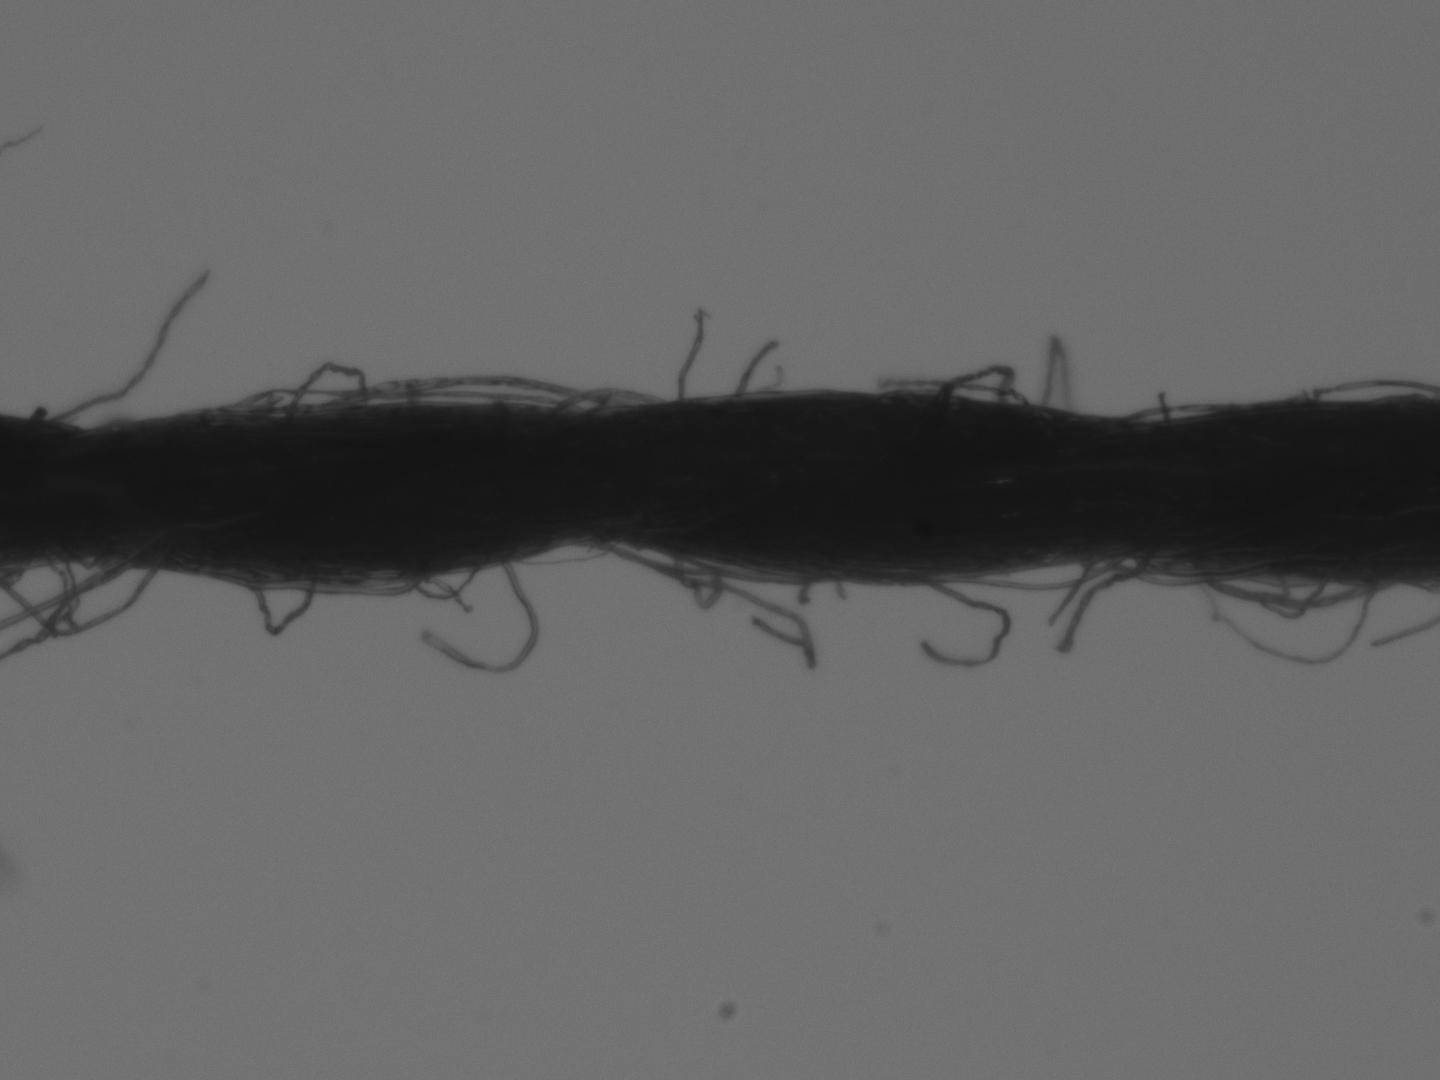loop_fiber: (2, 557, 169, 640), (940, 555, 1125, 592), (240, 577, 323, 644), (283, 361, 374, 408), (549, 383, 667, 413), (929, 360, 1015, 399), (669, 552, 726, 611)
